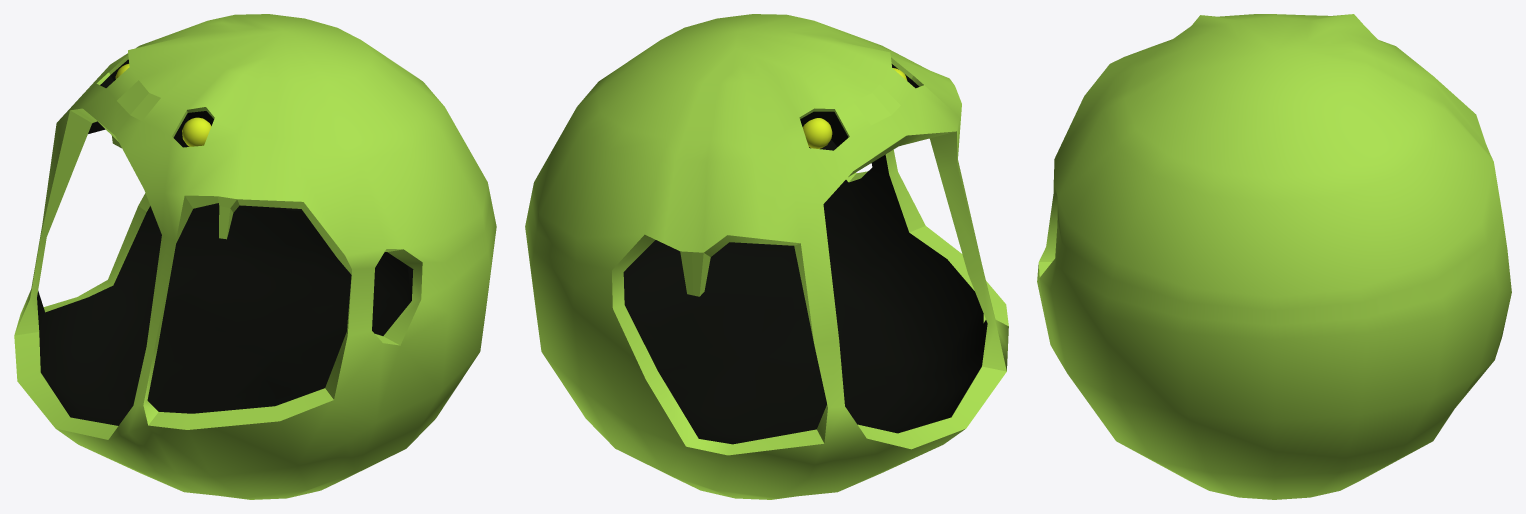
The model's file is Bulle Ouverte.fbx.
3 renders of one model, left to right at view 1: azimuth 30°, elevation 25°; view 2: azimuth 150°, elevation 25°; view 3: azimuth 270°, elevation 25°, orthographic.
Parts seen in each view (by area): view 1: Bulle Ouverte001, Bulle Ouverte003; view 2: Bulle Ouverte001, Bulle Ouverte002; view 3: Bulle Ouverte001.
Part boxes in pixels (x1,y1,x2,y2): Bulle Ouverte001: (14, 14, 496, 499); Bulle Ouverte003: (182, 117, 211, 146); Bulle Ouverte001: (525, 14, 1008, 499); Bulle Ouverte002: (802, 118, 832, 148); Bulle Ouverte001: (1037, 14, 1511, 499).
Size of the model in its own units: 59.29 by 60.61 by 59.46.
